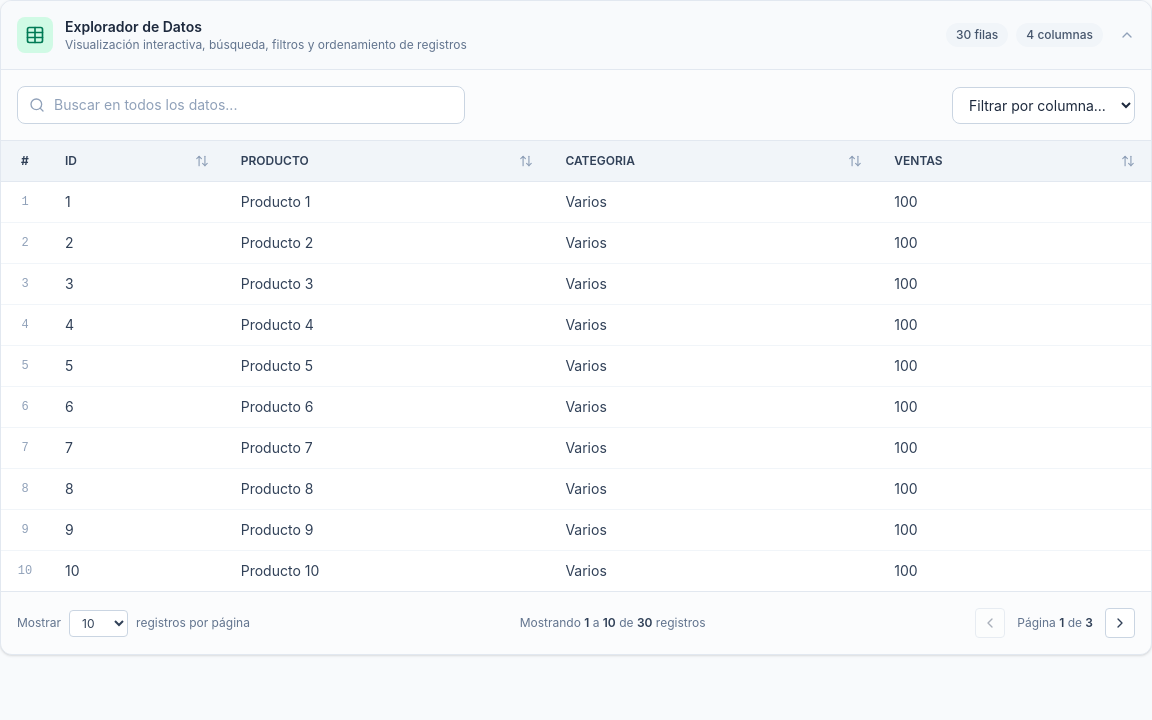
Test: Componente DataExplorer › debe permitir cambiar la cantidad de registros por página
Select "25" in the dropdown showing "10" next to "Mostrar" at (99, 623), box top-left (69, 610), bottom-right (128, 636)
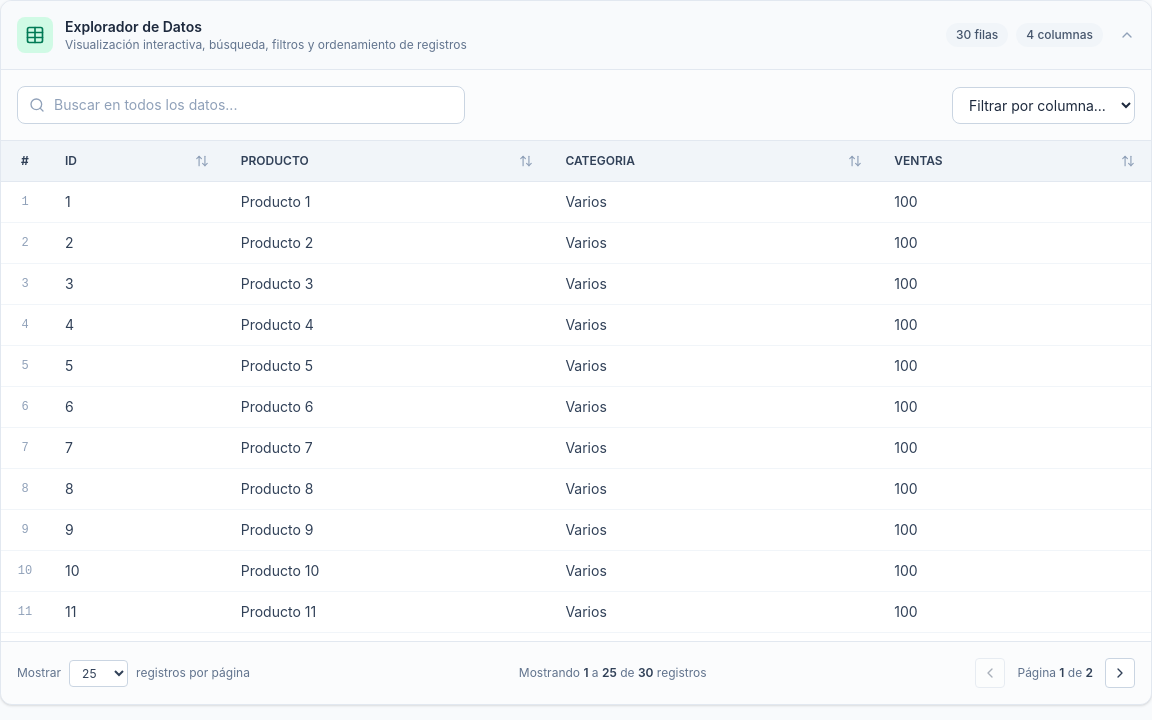
Expected: the text "Producto 1" is shown, top-left (225, 182), bottom-right (549, 222)
Expected: the element showing "Página 1 de 2" is shown, top-left (976, 658), bottom-right (1135, 688)
